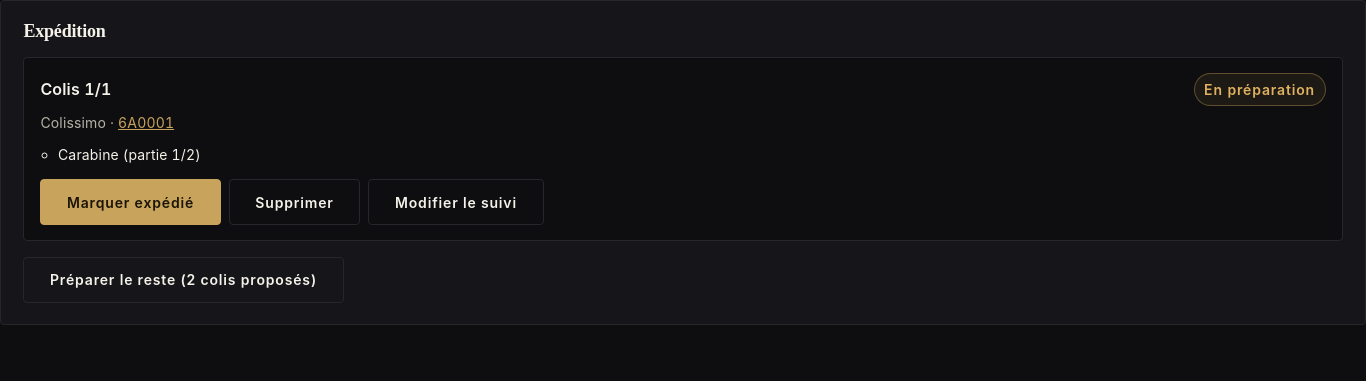
Test: AdminShipmentsPanel (story 11.9) › marks a parcel shipped, and relays the server's refusal instead of failing silently
Step 1. Click the button with class "ship-btn" → click(131, 202), box [40,179,221,225]
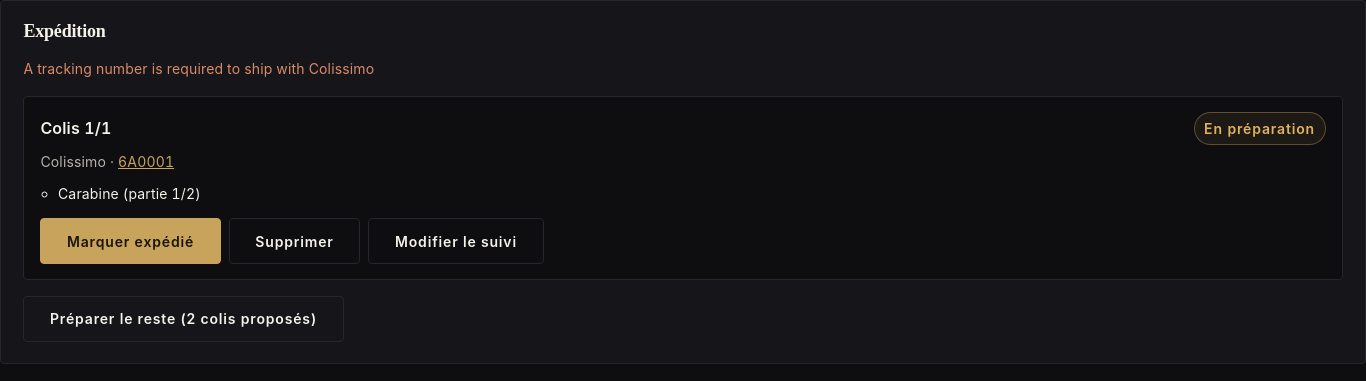
expect the message with class "alert" shows "tracking number is required": met, box [23,60,374,77]
